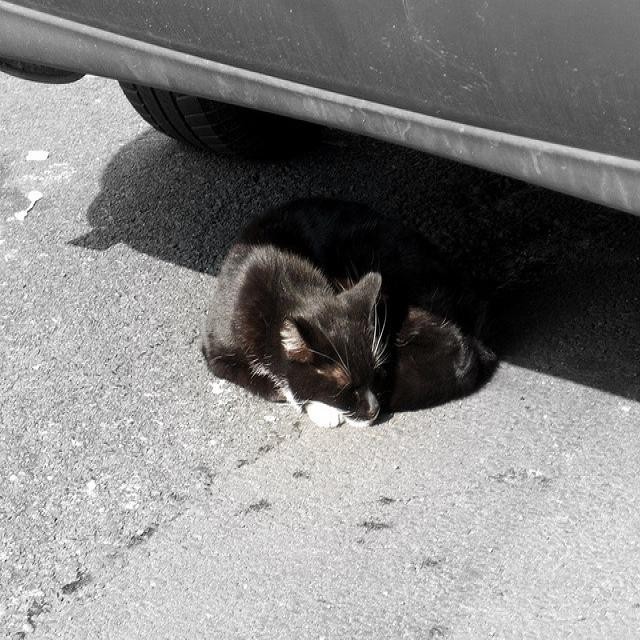Vehicle: (1, 1, 640, 215)
